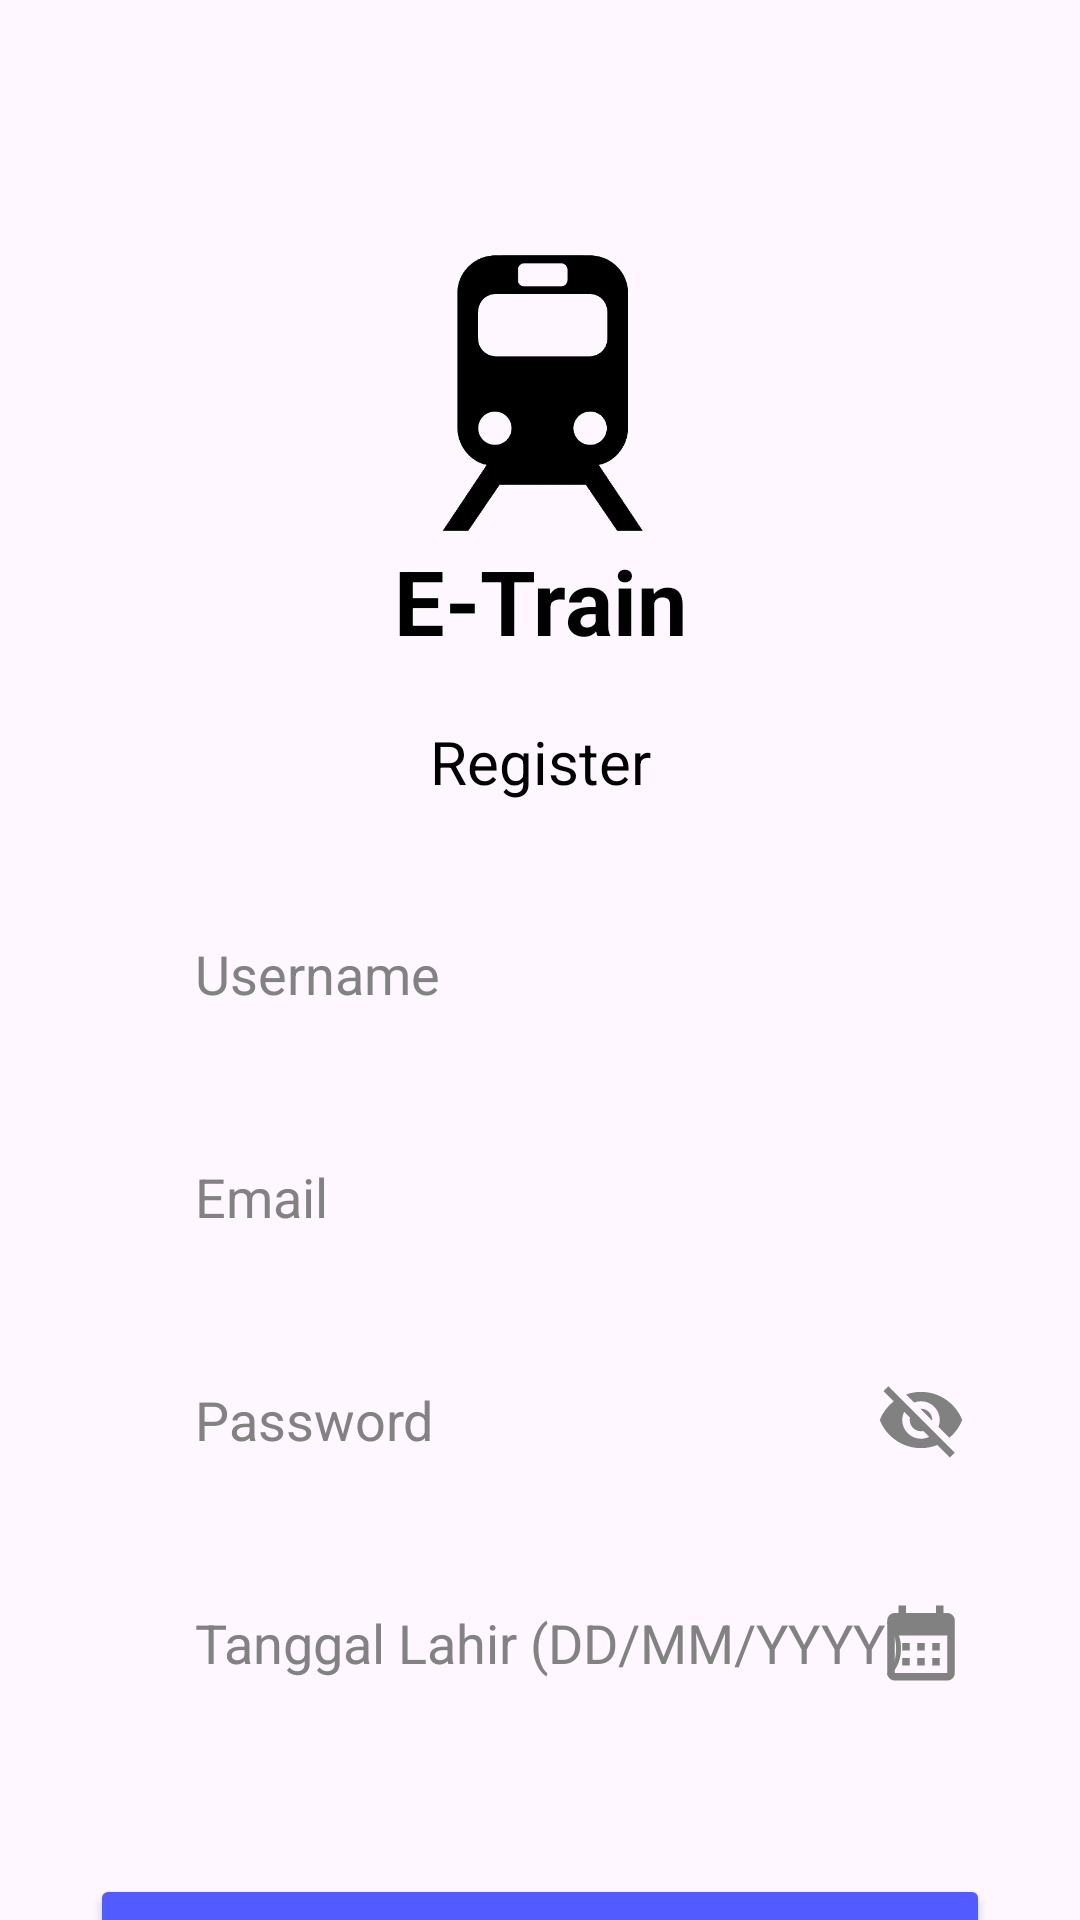

Icons on this 1080×1920 Android screen, each with its box as (x1, y1, x2, y2):
Toggle Calendar Dialog: (887, 1605, 955, 1681)
